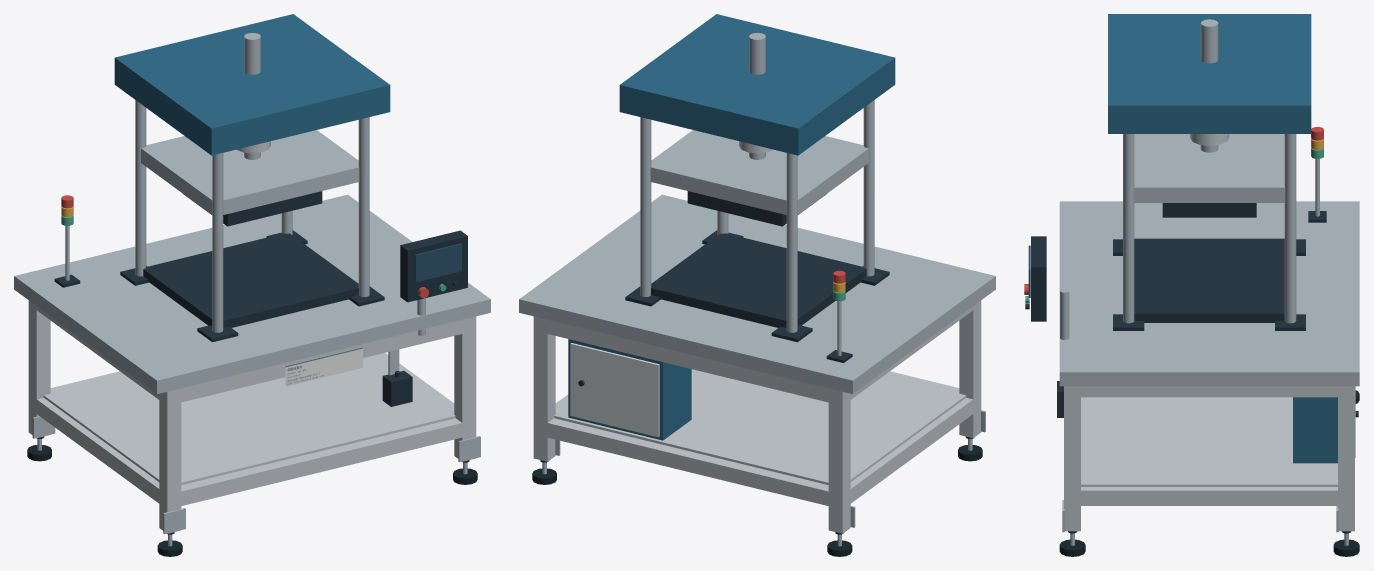
Rendered from servo-press-cell.glb.
3 renders of one model, left to right at view 1: azimuth 30°, elevation 25°; view 2: azimuth 150°, elevation 25°; view 3: azimuth 270°, elevation 25°, orthographic. The views are drawn at different scales.
Visible parts, largest first — view 1: ClosedMachineBed_28, LowerShelf_29, PressCrown_56, LowerDie_61, ToolPlate_58, SlottedExtrusion_22, SlottedExtrusion_23, SlottedExtrusion_8, SlottedExtrusion_24, ConsoleBack_34, SlottedExtrusion_18, SlottedExtrusion_3 (+9 smaller); view 2: ClosedMachineBed_28, PressCrown_56, LowerShelf_29, LowerDie_61, ToolPlate_58, BackDoor_31, SlottedExtrusion_20, SlottedExtrusion_21, SlottedExtrusion_3, Cabinet_30, SlottedExtrusion_13, SlottedExtrusion_24 (+7 smaller); view 3: ClosedMachineBed_28, PressCrown_56, LowerShelf_29, LowerDie_61, ToolPlate_58, SlottedExtrusion_26, SlottedExtrusion_27, Cabinet_30, SlottedExtrusion_13, SlottedExtrusion_18, GuideColumn_52, GuideColumn_54 (+4 smaller).
Part boxes in pixels (x1,y1,x2,y2): ClosedMachineBed_28: (14, 194, 490, 393); LowerShelf_29: (43, 354, 455, 484); PressCrown_56: (114, 14, 390, 155); LowerDie_61: (143, 233, 358, 327); ToolPlate_58: (141, 130, 359, 214); SlottedExtrusion_22: (175, 418, 469, 507); SlottedExtrusion_23: (174, 318, 469, 402); SlottedExtrusion_8: (159, 388, 181, 533); SlottedExtrusion_24: (33, 397, 159, 503); ConsoleBack_34: (400, 230, 467, 302); SlottedExtrusion_18: (454, 316, 476, 461); SlottedExtrusion_3: (28, 300, 50, 437); ClosedMachineBed_28: (519, 194, 995, 393); PressCrown_56: (619, 14, 895, 155); LowerShelf_29: (554, 369, 966, 484); LowerDie_61: (651, 233, 866, 327); ToolPlate_58: (650, 130, 868, 214); BackDoor_31: (570, 343, 659, 437); SlottedExtrusion_20: (540, 418, 835, 507); SlottedExtrusion_21: (540, 318, 835, 402); SlottedExtrusion_3: (828, 388, 850, 533); Cabinet_30: (568, 339, 691, 440); SlottedExtrusion_13: (533, 316, 555, 461); SlottedExtrusion_24: (849, 397, 976, 503); ClosedMachineBed_28: (1059, 201, 1359, 386); PressCrown_56: (1108, 14, 1311, 133); LowerShelf_29: (1081, 397, 1337, 486); LowerDie_61: (1134, 238, 1284, 322); ToolPlate_58: (1133, 134, 1285, 202); SlottedExtrusion_26: (1072, 487, 1346, 505); SlottedExtrusion_27: (1072, 386, 1346, 397); Cabinet_30: (1293, 397, 1337, 463); SlottedExtrusion_13: (1338, 386, 1354, 531); SlottedExtrusion_18: (1064, 386, 1080, 531); GuideColumn_52: (1284, 134, 1296, 323); GuideColumn_54: (1123, 134, 1134, 323).
Bounding box in the file's own units: 1.55 × 1.91 × 1.29.
Materials: 11 (1 with a texture image).
